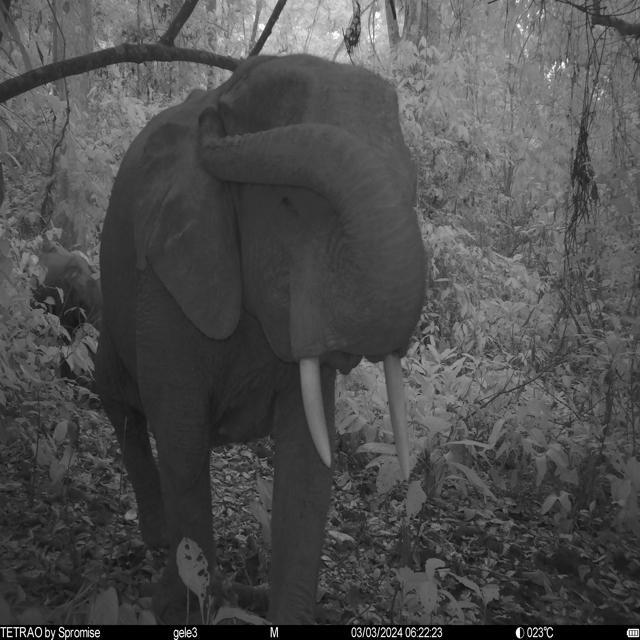ear: (136, 91, 248, 342)
elephant: (93, 54, 430, 629)
tusk: (300, 356, 336, 469), (383, 354, 413, 485)
